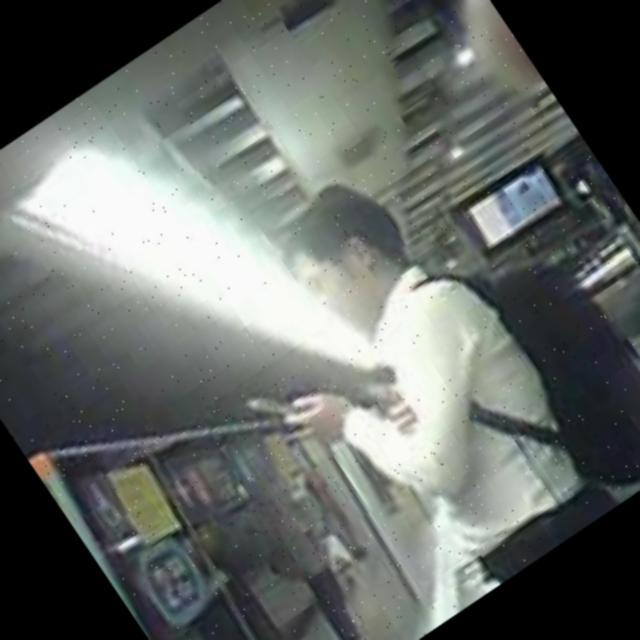person: (186, 133, 640, 634)
